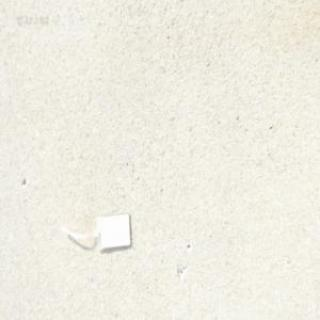LuggageTagtrack_idkeyframe: (61, 208, 134, 252)
